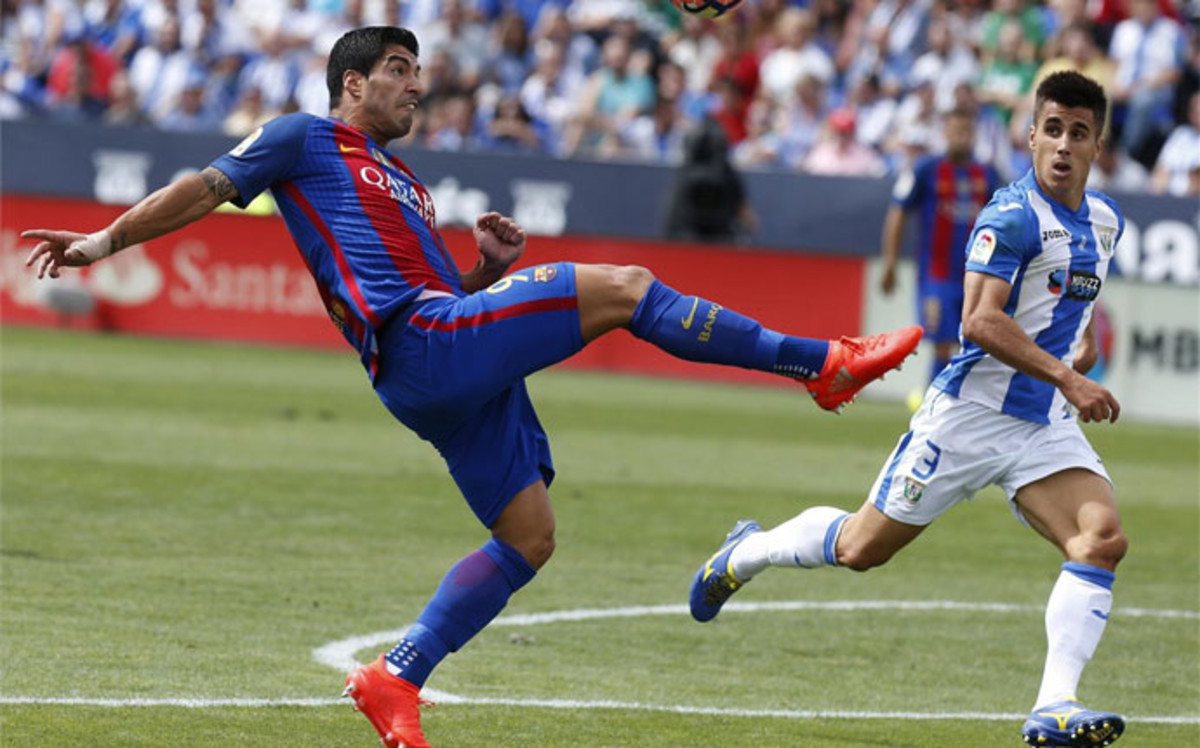football boots: (813, 326, 923, 414), (345, 655, 437, 748), (689, 518, 762, 624), (1022, 701, 1125, 747)
